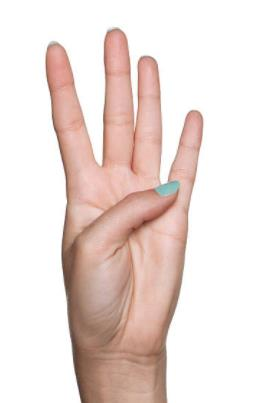right: (39, 24, 207, 358)
